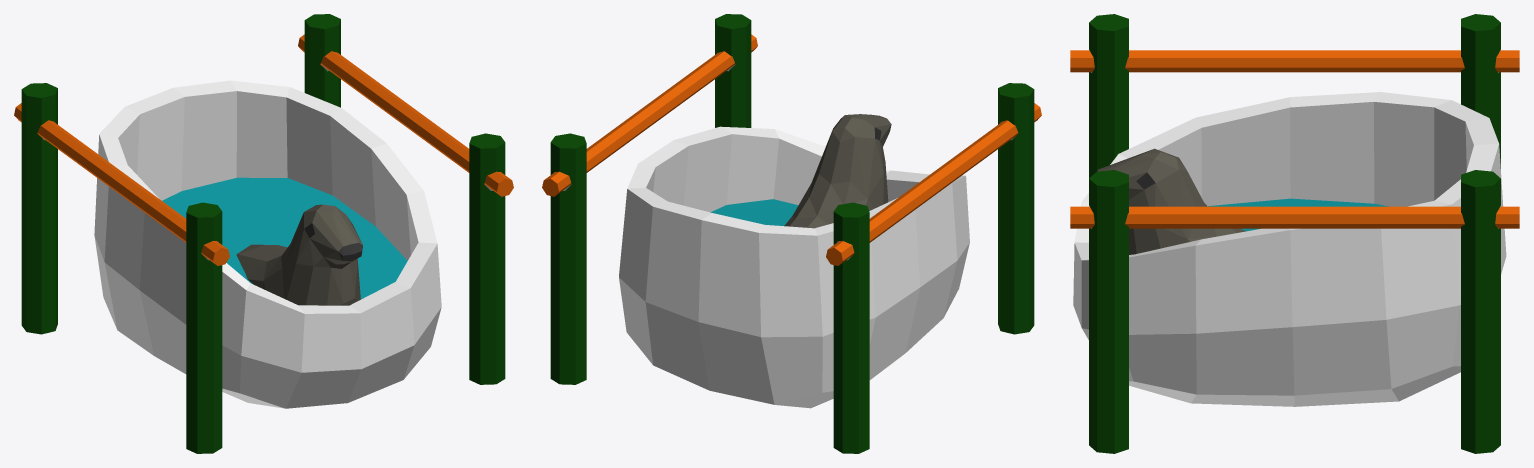
File: level 1 Seal Bathing area 1.fbx
3 views of the same model, side by side, from view 1: azimuth 30°, elevation 25°; view 2: azimuth 150°, elevation 25°; view 3: azimuth 270°, elevation 25° (orthographic). The views are drawn at different scales.
Parts seen in each view (by area): view 1: Seal bathing Area; view 2: Seal bathing Area; view 3: Seal bathing Area.
Part boxes in pixels (x1,y1,x2,y2): Seal bathing Area: (14,14,513,453); Seal bathing Area: (542,14,1041,453); Seal bathing Area: (1070,14,1519,453).
Size of the model in its own units: 97.49 by 73.37 by 107.
